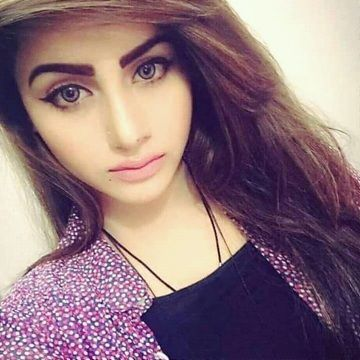GIRL: (1, 2, 229, 206)
